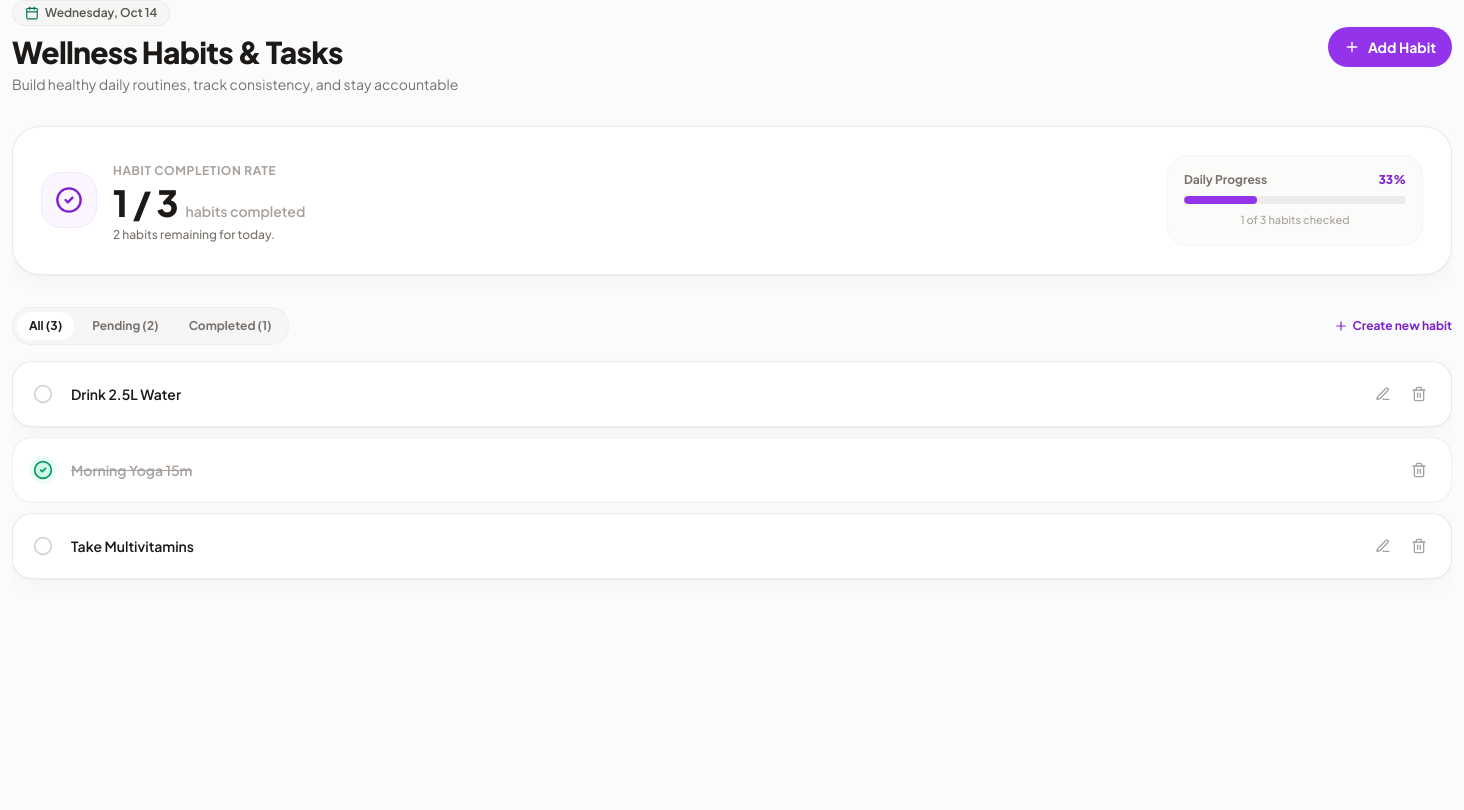
Test: Task Completion and Status Filtering › TodoTracker Component › filters tasks correctly when switching between All, Pending, and Completed tabs
This screenshot has width=1464, height=810.
Expected: the text "Drink 2.5L Water" is shown, [71,384,181,404]
Expected: the text "Morning Yoga 15m" is shown, [71,460,192,480]
// Click 'Pending (2)' filter
Click the button "Pending (2)" at (125, 326), box [80,312,171,340]
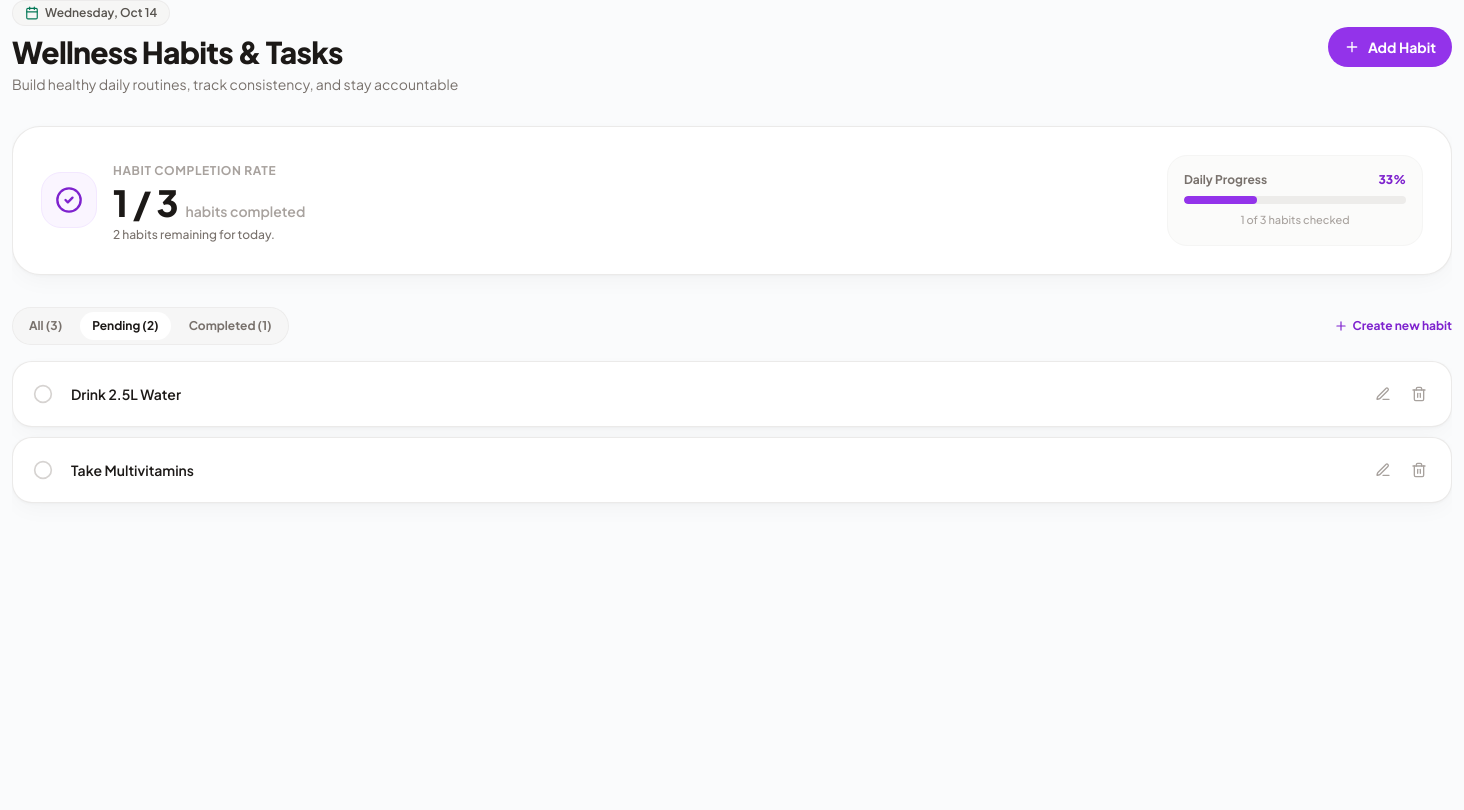
Expected: the text "Drink 2.5L Water" is shown, [71,384,181,404]
Result: the text "Morning Yoga 15m" is gone
// Click 'Completed (1)' filter
Click the button "Completed (1)" at (230, 326), box [177,312,284,340]
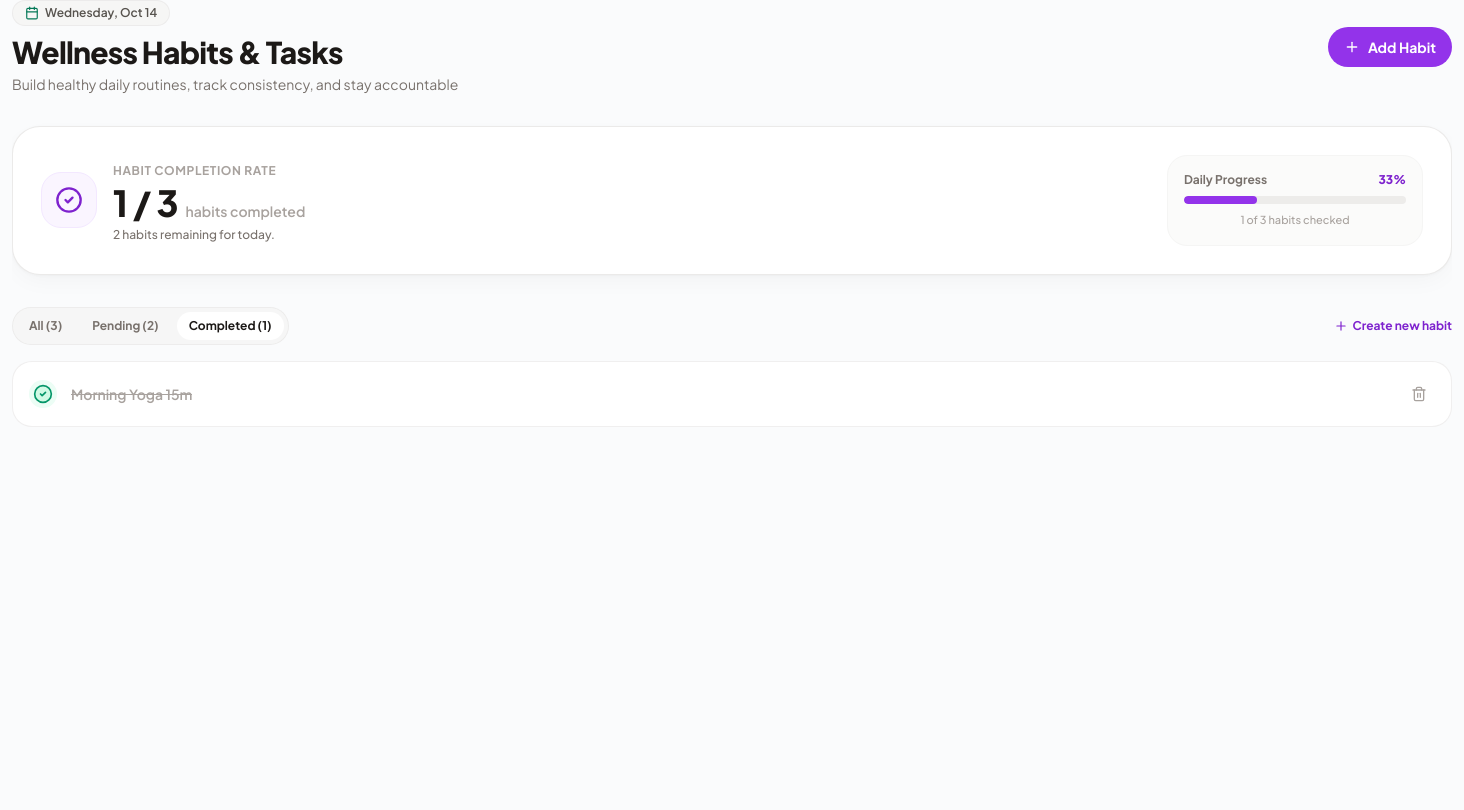
Result: the text "Morning Yoga 15m" is shown at [71,384,192,404]
Result: the text "Drink 2.5L Water" is gone
Result: the text "Take Multivitamins" is gone
// Switch back to 'All (3)'
Click the button "All (3)" at (46, 326), box [17,312,74,340]
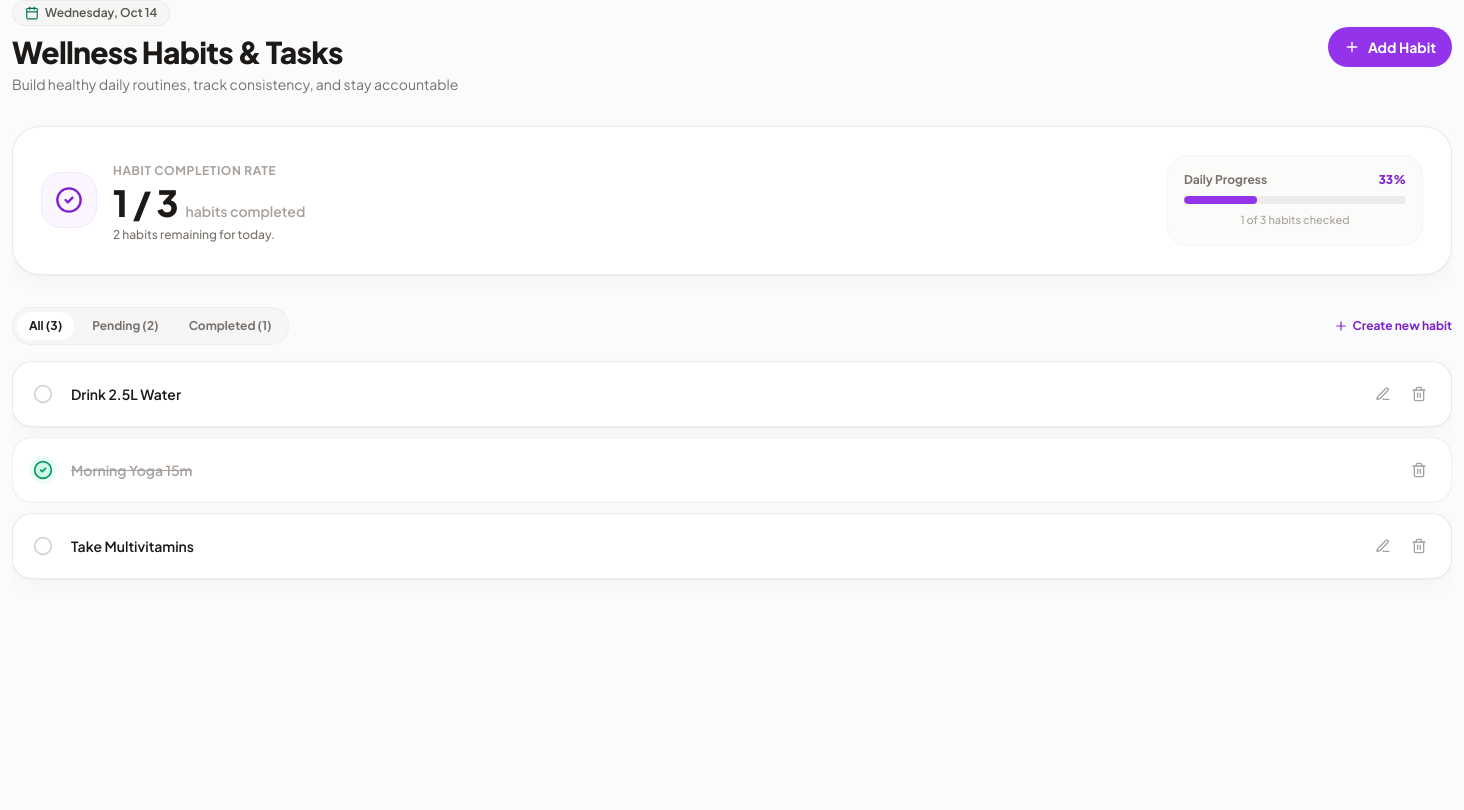
Result: the text "Morning Yoga 15m" is shown at [71,460,192,480]
Result: the text "Drink 2.5L Water" is shown at [71,384,181,404]
Result: the text "Take Multivitamins" is shown at [71,536,194,556]
